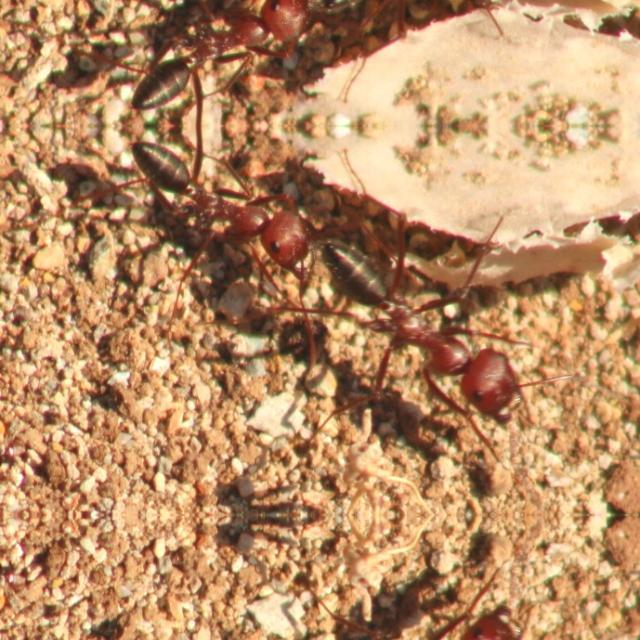Cataglyphis: (310, 260, 560, 428), (95, 127, 323, 270), (95, 0, 323, 122), (308, 600, 560, 640)
